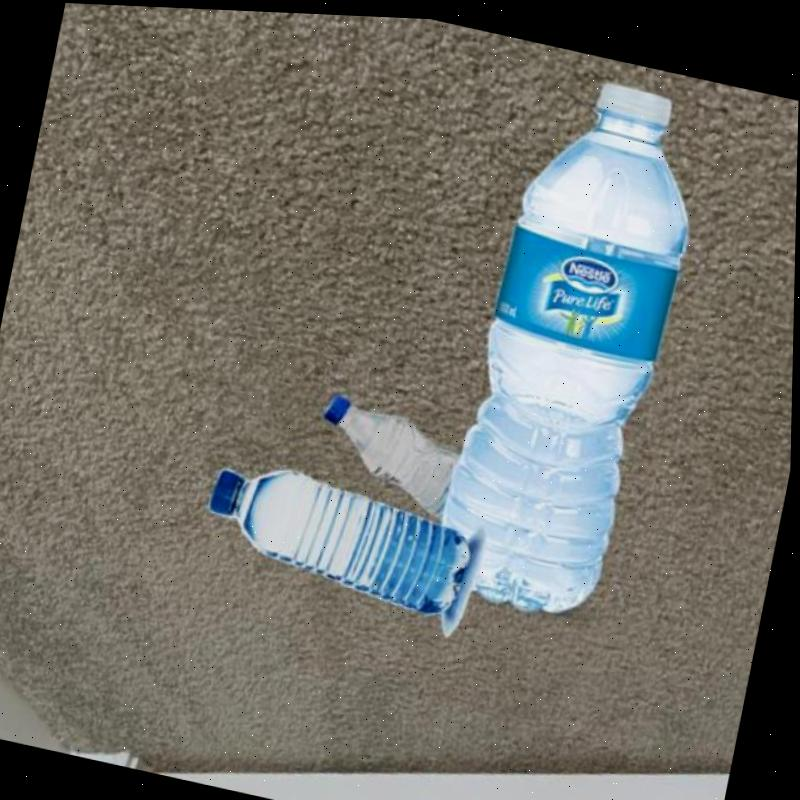botella: (429, 57, 716, 630), (199, 450, 479, 615), (307, 390, 468, 519)
